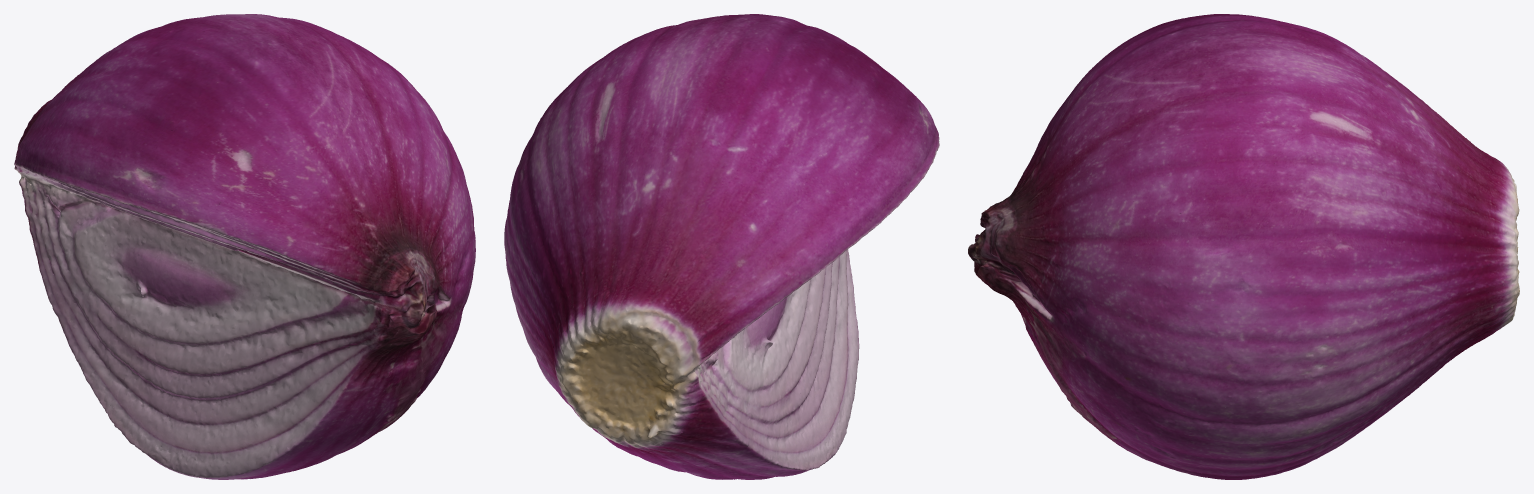
The model's file is purple_onion.glb.
3 views of the same model, side by side, from view 1: azimuth 30°, elevation 25°; view 2: azimuth 150°, elevation 25°; view 3: azimuth 270°, elevation 25° (orthographic). The views are drawn at different scales.
Parts seen in each view (by area): view 1: Object_2, Object_3; view 2: Object_2, Object_3; view 3: Object_2, Object_3.
Boxes of the visible parts, bbox=[...] form: Object_2: bbox=[14, 14, 475, 479]; Object_3: bbox=[14, 14, 475, 478]; Object_2: bbox=[509, 14, 939, 455]; Object_3: bbox=[504, 37, 939, 479]; Object_2: bbox=[968, 14, 1519, 479]; Object_3: bbox=[1022, 14, 1519, 479].
Bounding box in the file's own units: 2.5 × 2.65 × 3.15.
1 material, 1 textured.
